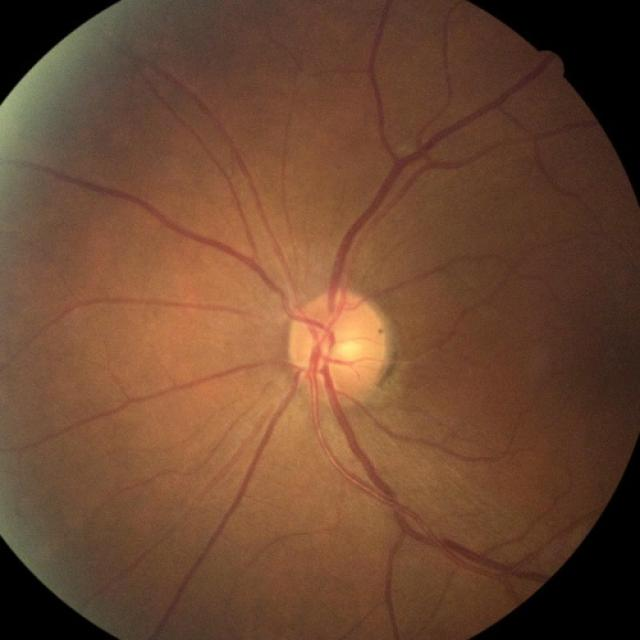OC: (336, 336, 362, 360)
OD: (288, 292, 389, 401)
